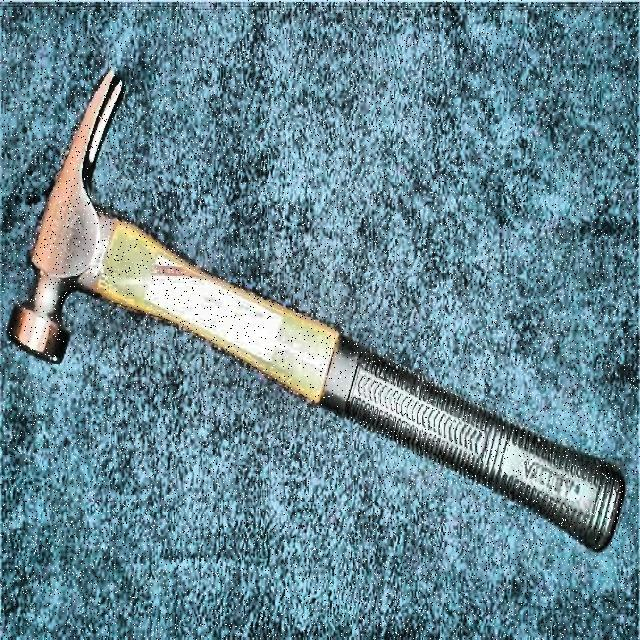hammer: (6, 69, 630, 553)
